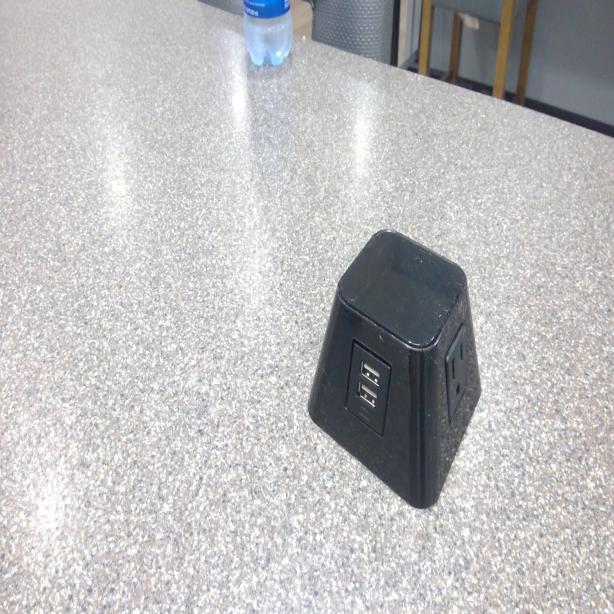typeb: (440, 326, 470, 405)
